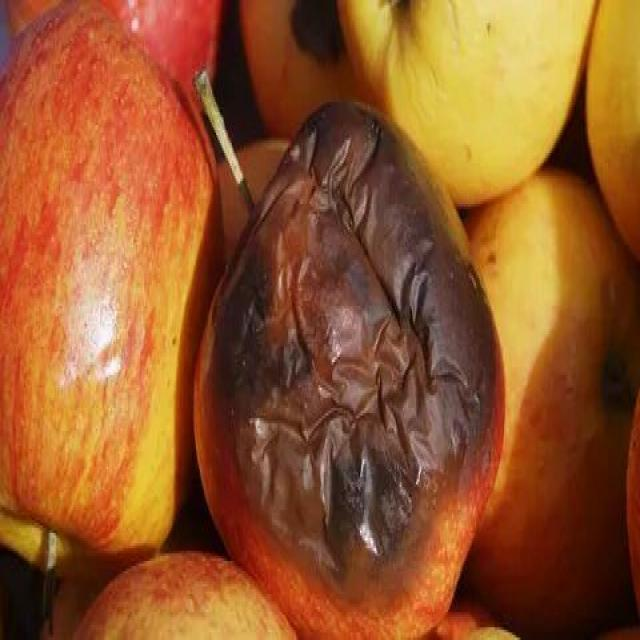fresh_apple: (3, 23, 220, 569)
rotten_apple: (192, 101, 507, 626)
